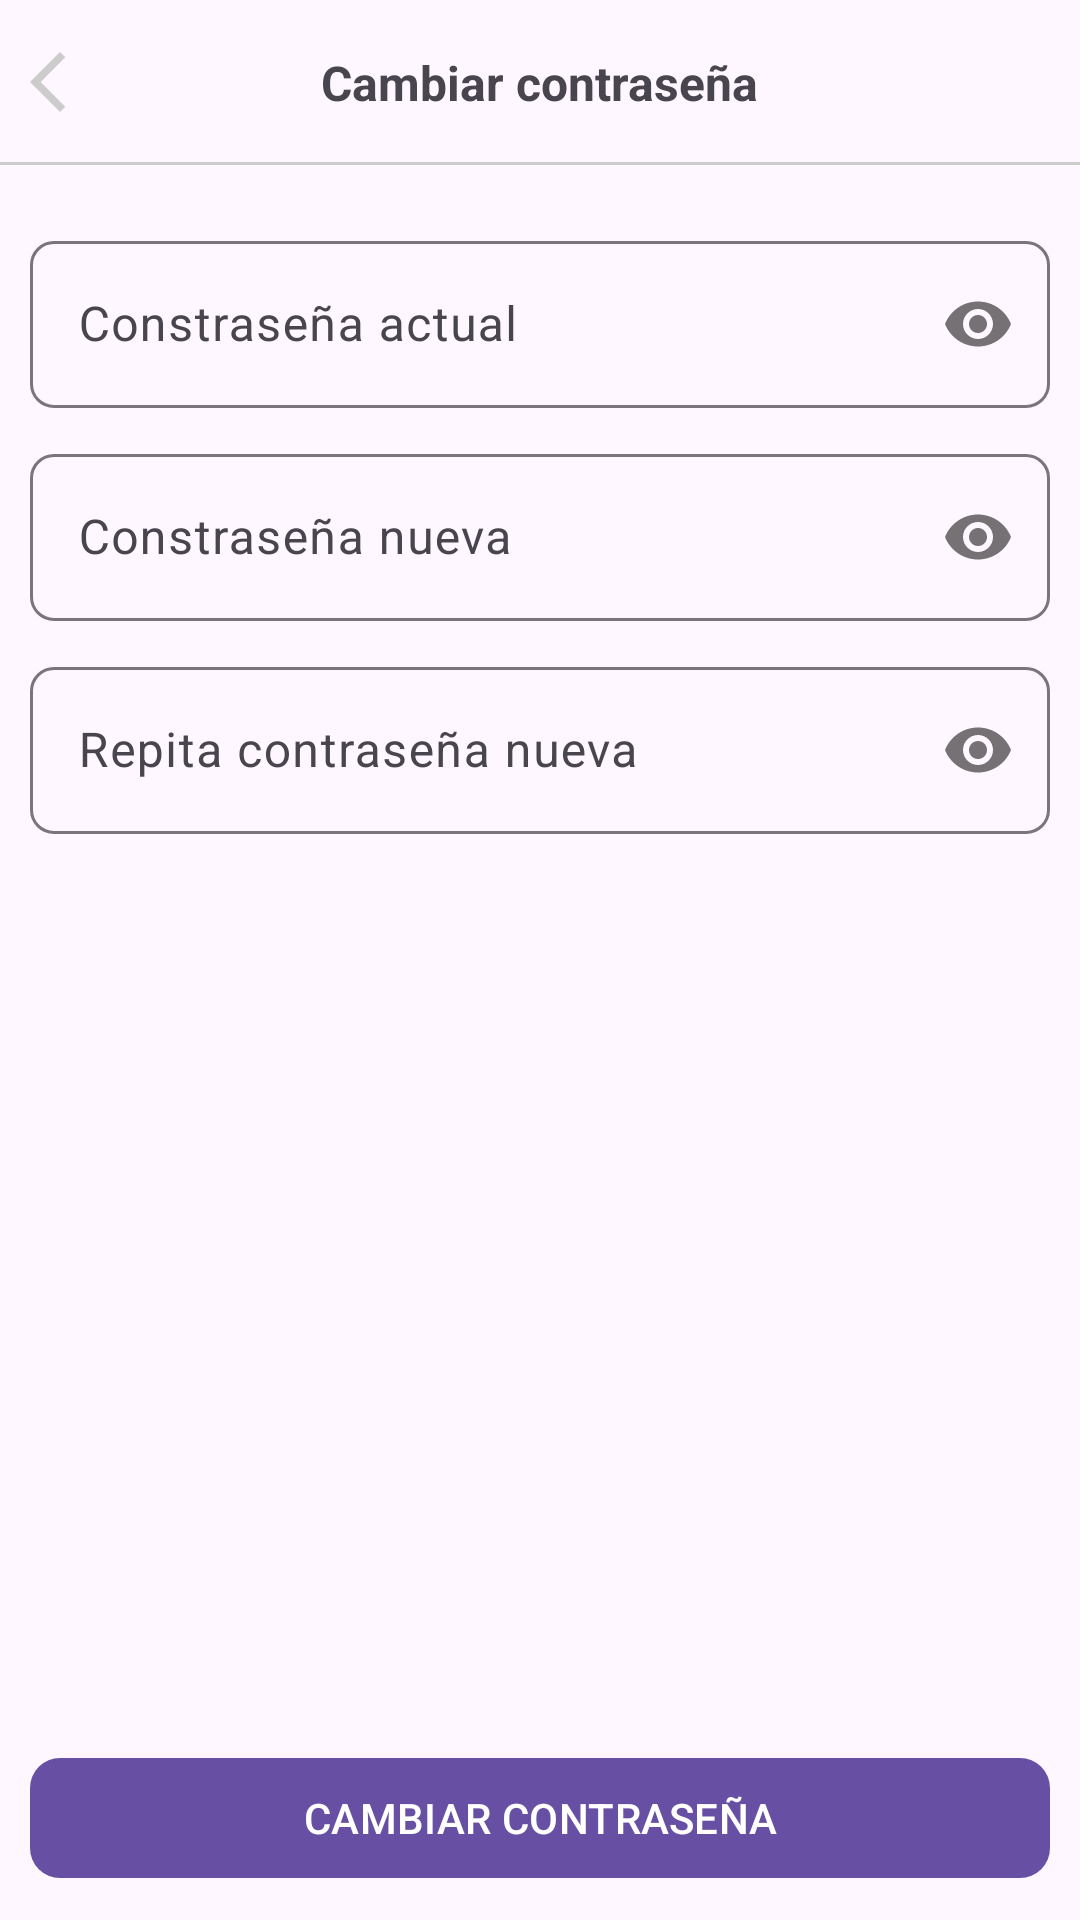

Point at icon controls on the screen. Image size 1080x1920, points as (x=x, y=y).
regresar: (x=47, y=82)
